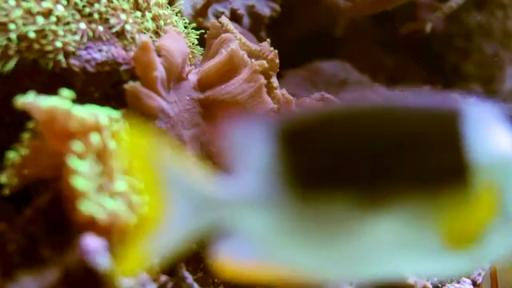Fish: (115, 98, 511, 284)
